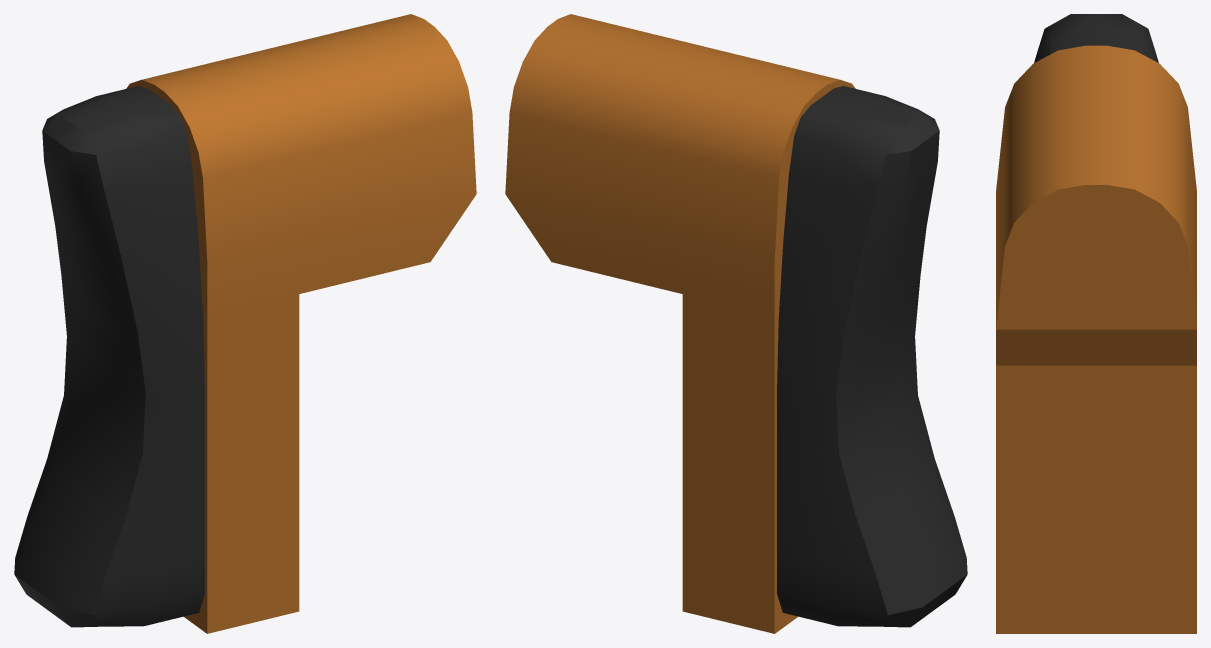
Rendered from Stock_AR_6.glb.
3 renders of one model, left to right at view 1: azimuth 30°, elevation 25°; view 2: azimuth 150°, elevation 25°; view 3: azimuth 270°, elevation 25°, orthographic. The views are drawn at different scales.
Visible parts, largest first — view 1: Stock_AR_6; view 2: Stock_AR_6; view 3: Stock_AR_6.
Boxes of the visible parts, bbox=[...] form: Stock_AR_6: bbox=[14, 14, 476, 633]; Stock_AR_6: bbox=[505, 14, 967, 633]; Stock_AR_6: bbox=[996, 14, 1196, 633].
Bounding box in the file's own units: 0.3479 × 0.4327 × 0.1456.
